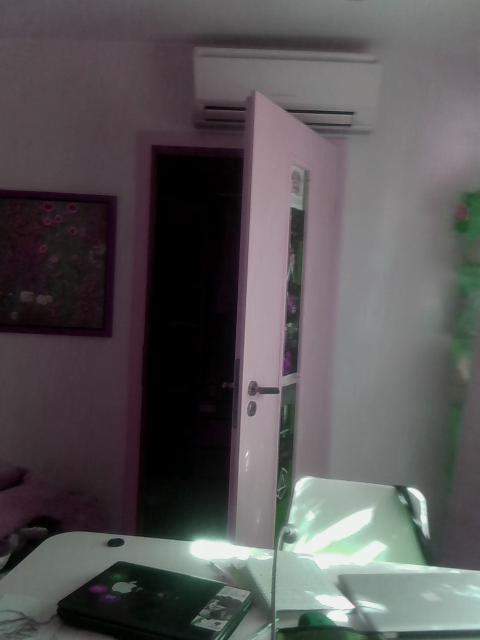semi_door: (118, 86, 344, 639)
